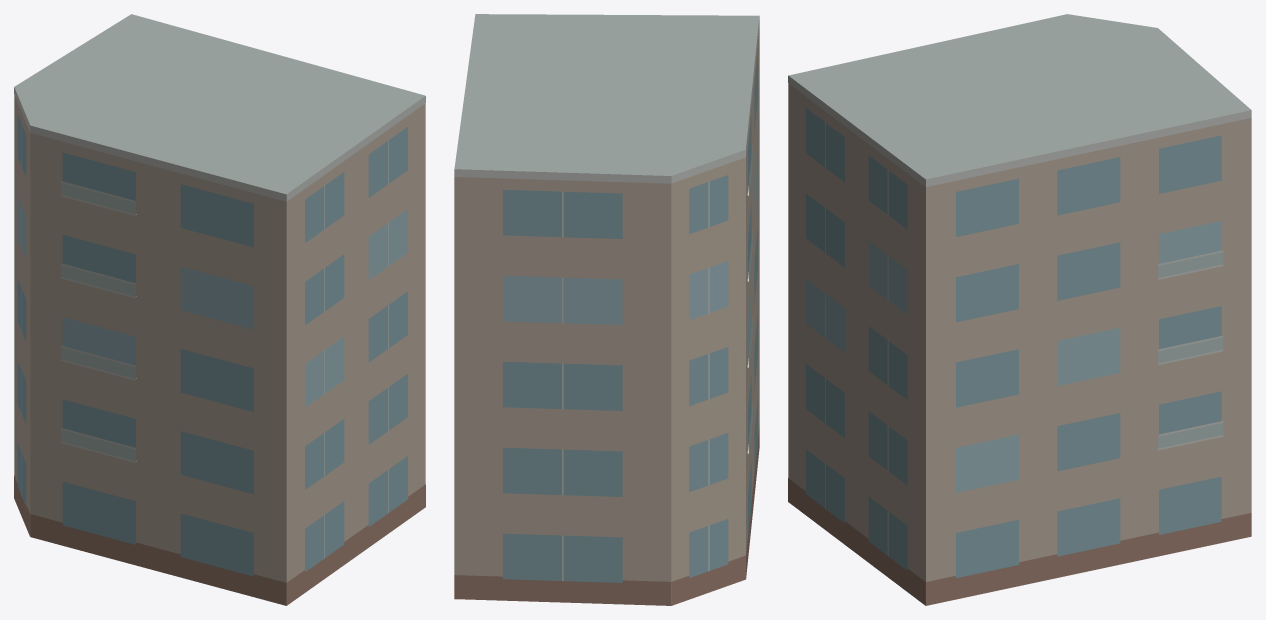
The model's file is survey-upis-32905560.glb.
3 views of the same model, side by side, from view 1: azimuth 30°, elevation 25°; view 2: azimuth 150°, elevation 25°; view 3: azimuth 270°, elevation 25° (orthographic). The views are drawn at different scales.
Visible parts, largest first — view 1: survey-upis-32905560.tmp; view 2: survey-upis-32905560.tmp; view 3: survey-upis-32905560.tmp.
Boxes of the visible parts, <box> form: survey-upis-32905560.tmp: <box>14,14,425,605</box>; survey-upis-32905560.tmp: <box>454,14,759,605</box>; survey-upis-32905560.tmp: <box>788,14,1251,605</box>.
Size of the model in its own units: 11.33 by 13.6 by 13.41.
